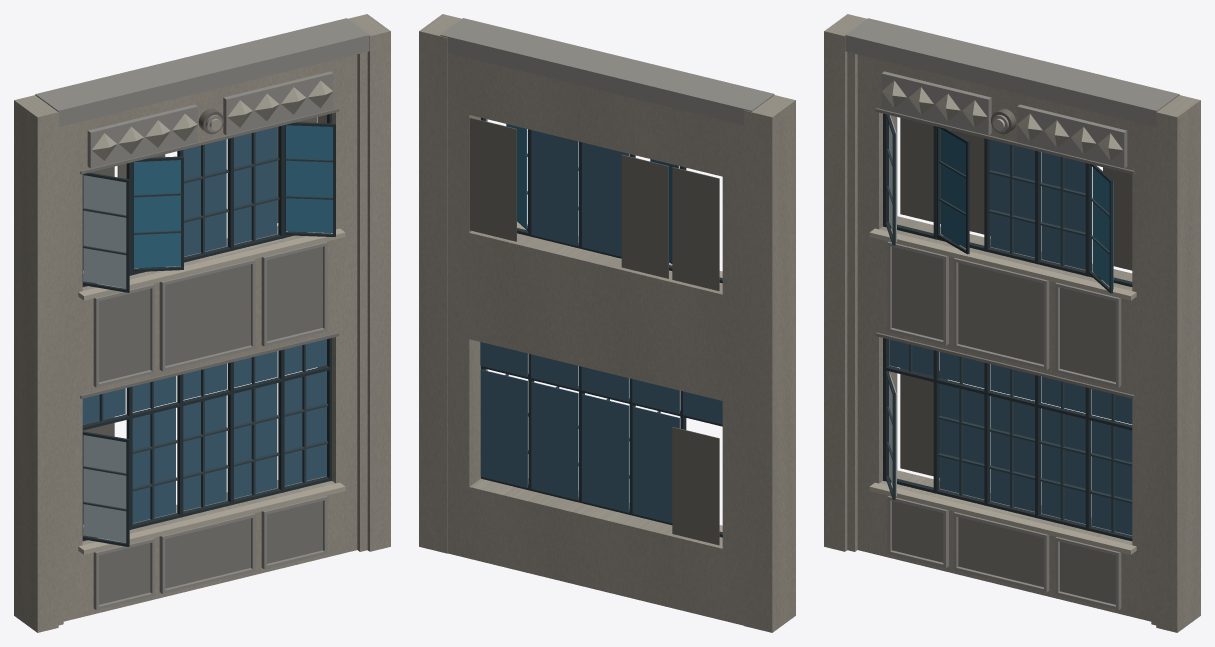
Rendered from jingan-industrial-bank-warehouse-steel-casements-lod.glb.
The picture shows the model from 3 angles, left to right: view 1: azimuth 30°, elevation 25°; view 2: azimuth 150°, elevation 25°; view 3: azimuth 330°, elevation 25°; orthographic projection.
Parts seen in each view (by area): view 1: 中国实业银行仓库南面高段双层钢窗与折纹窗楣; view 2: 中国实业银行仓库南面高段双层钢窗与折纹窗楣; view 3: 中国实业银行仓库南面高段双层钢窗与折纹窗楣.
Boxes of the visible parts, x1,y1,x2,y2 form: 中国实业银行仓库南面高段双层钢窗与折纹窗楣: (14,14,390,632); 中国实业银行仓库南面高段双层钢窗与折纹窗楣: (419,14,795,632); 中国实业银行仓库南面高段双层钢窗与折纹窗楣: (824,14,1200,632).
Bounding box in the file's own units: 6.08 × 8.5 × 1.04.
Materials: 11 (1 with a texture image).
